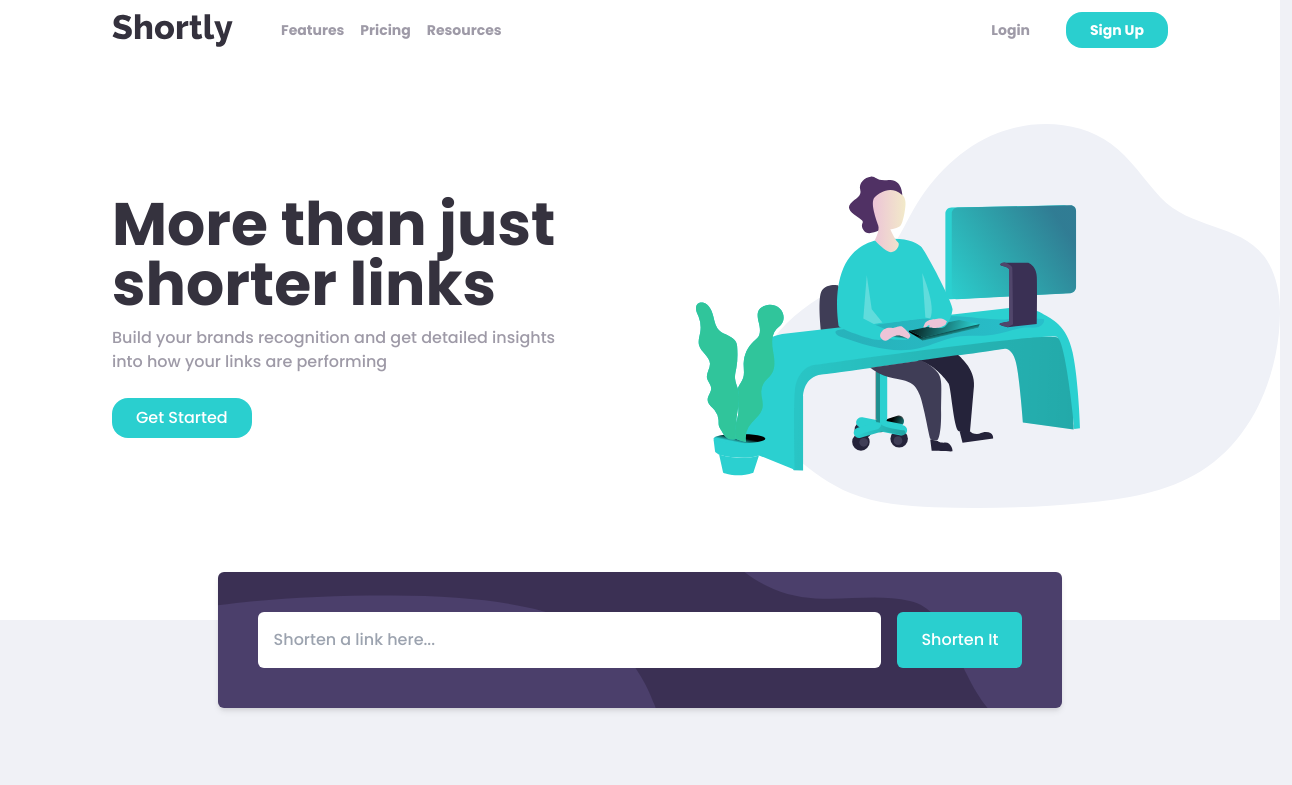
Test: Action › If error, hide error once user starts typing
Type "hello" into the field with placeholder "Shorten a link here...".
click(570, 640); type("hello")  # box [258,612,882,668]
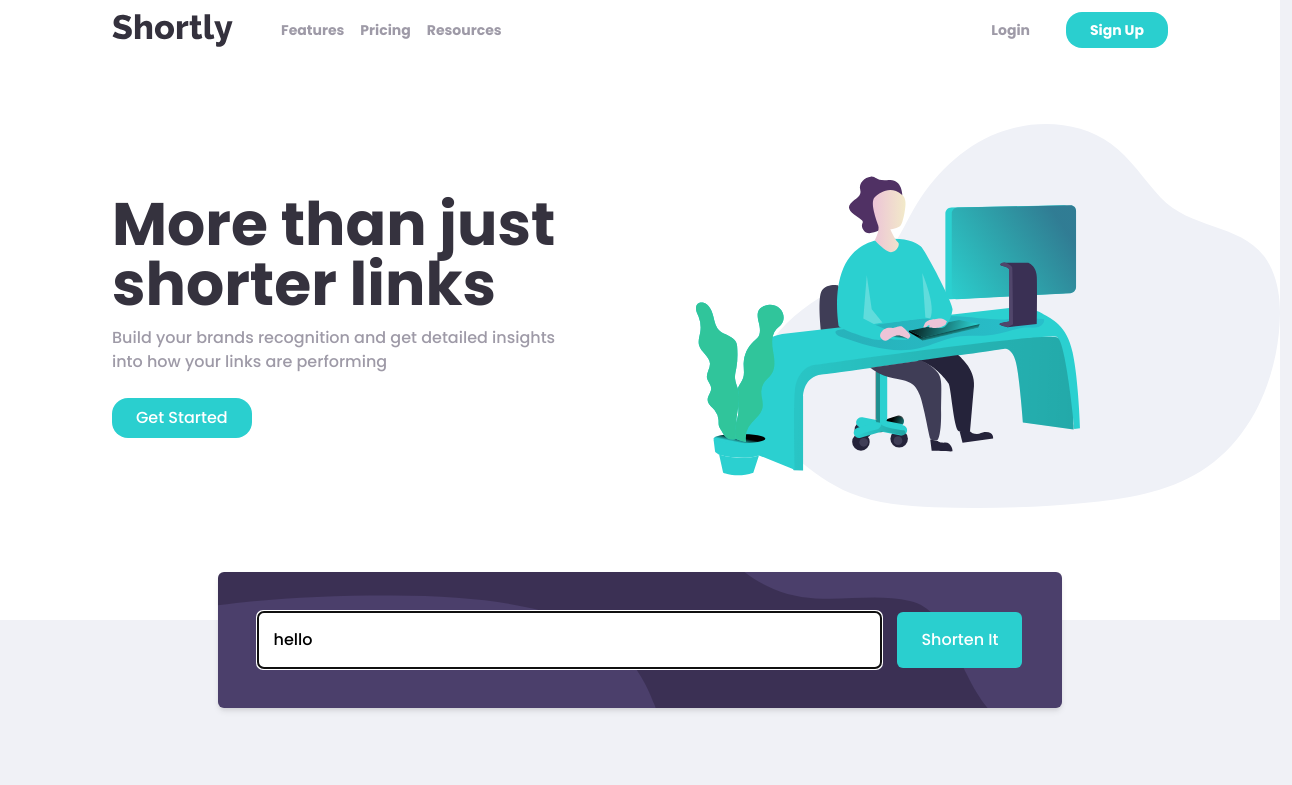
Click the button with id "inputButton".
click(960, 640)  # box [897,612,1022,668]
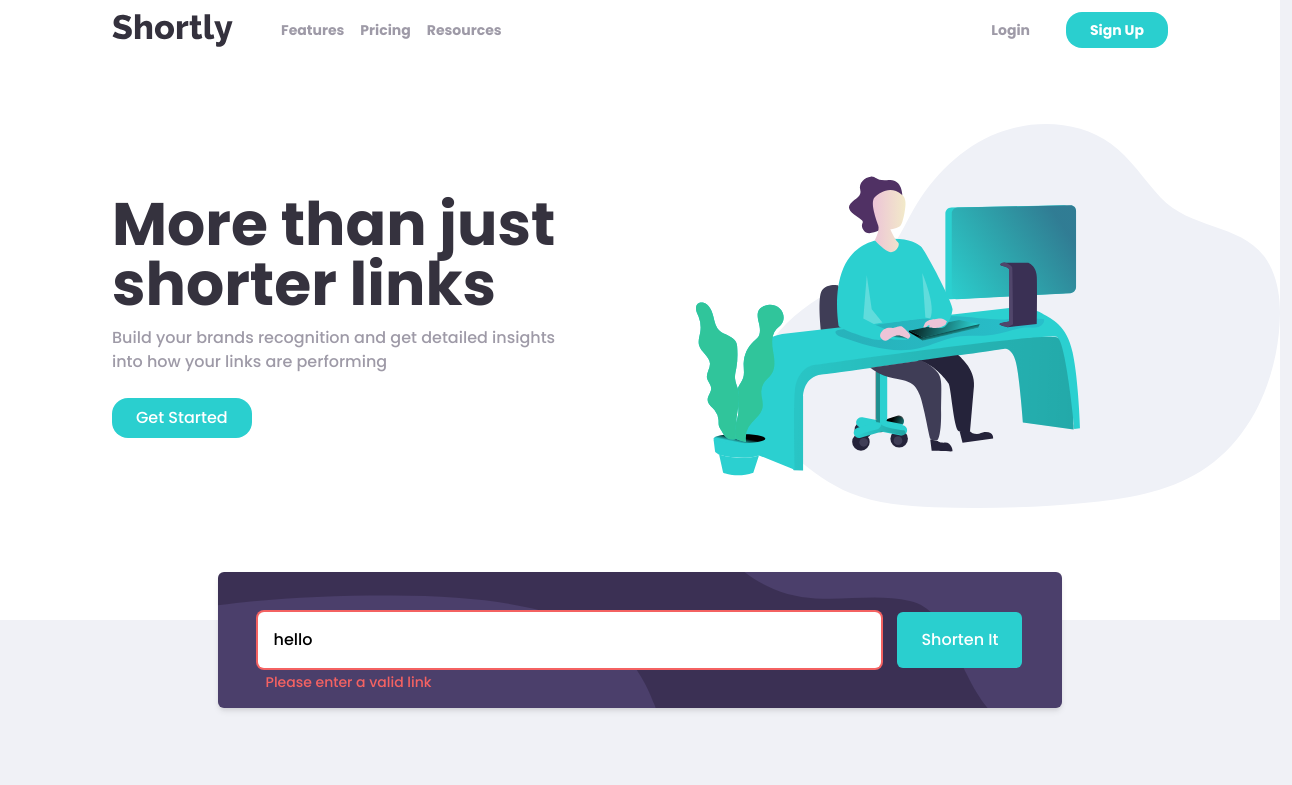
Expected: the text with id "inputErrorMessage" reads "Please enter a valid link", [266,672,432,692]
Type "mon" into the field labelled "Please enter a valid link".
click(570, 640); type("mon")  # box [258,612,882,668]
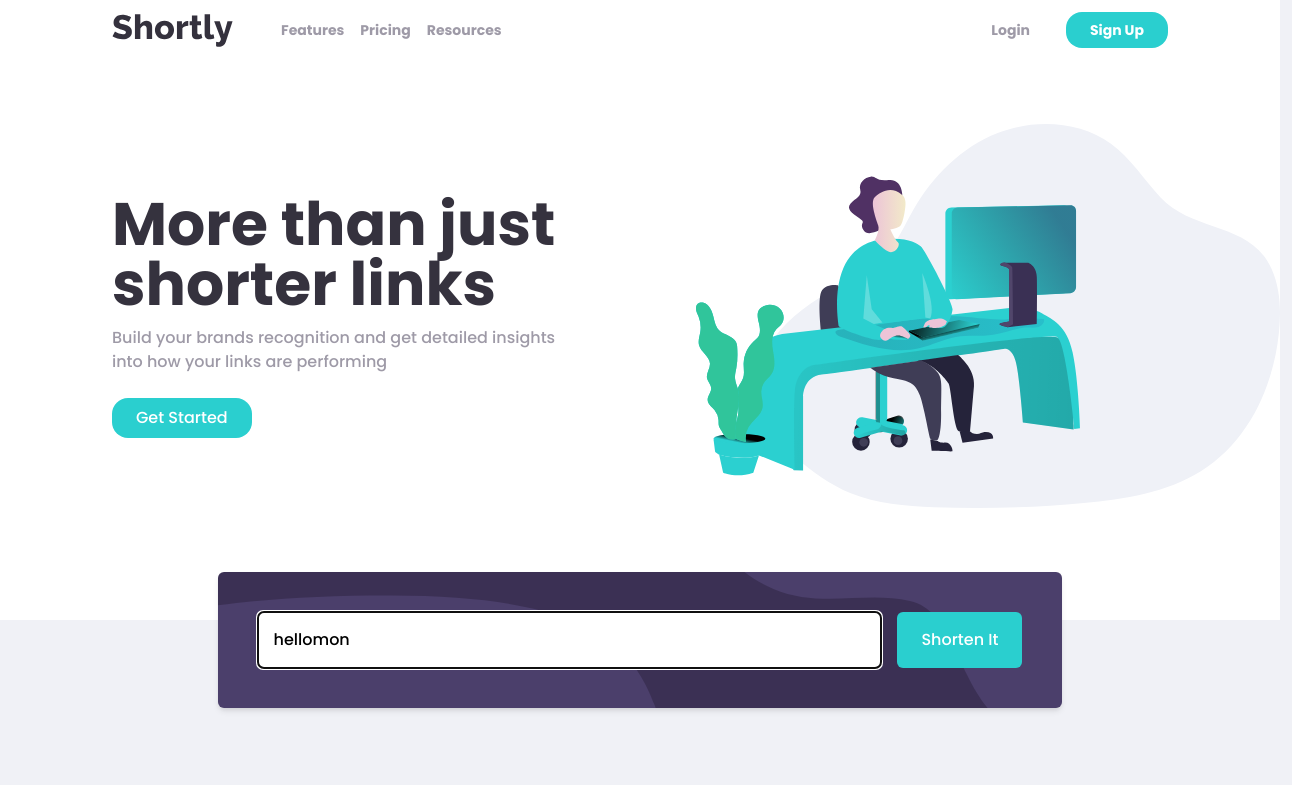
Expected: the field holds "hellomon", [258,612,882,668]
